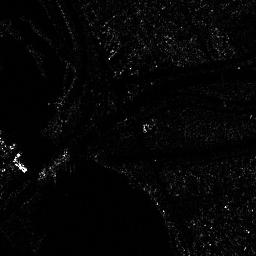ship: (38, 147, 70, 180)
